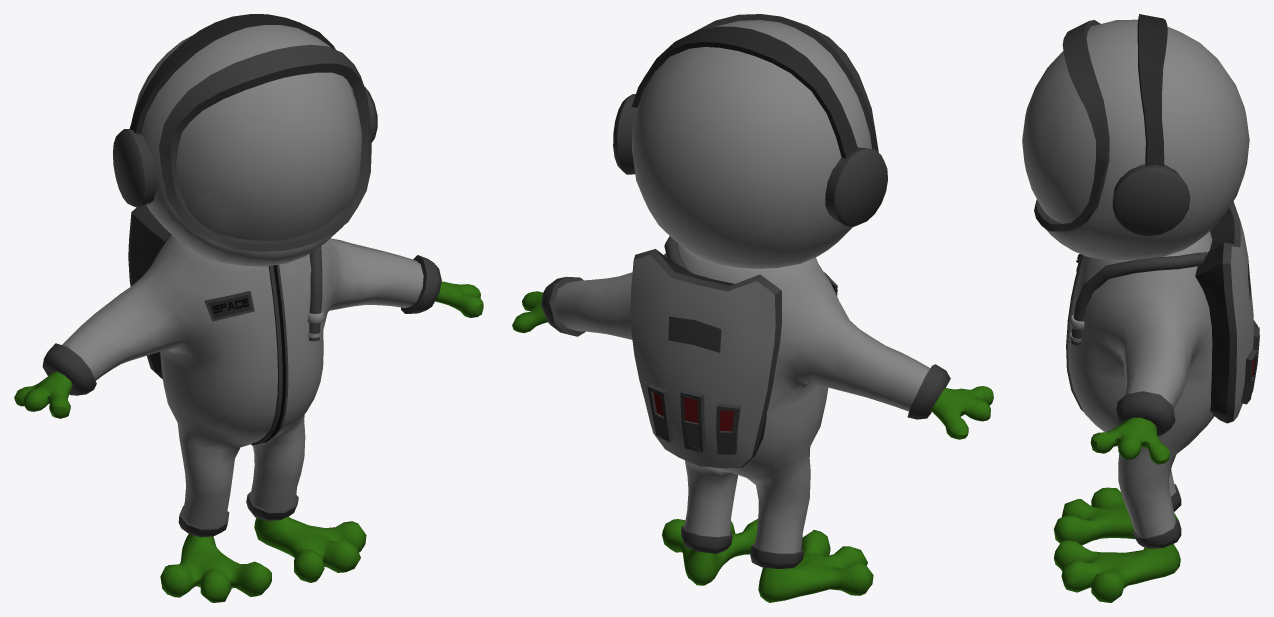
The model's file is FROG_00I.fbx.
3 renders of one model, left to right at view 1: azimuth 30°, elevation 25°; view 2: azimuth 150°, elevation 25°; view 3: azimuth 270°, elevation 25°, orthographic. The views are drawn at different scales.
Visible parts, largest first — view 1: FROG_00I; view 2: FROG_00I; view 3: FROG_00I.
Part boxes in pixels (x1,y1,x2,y2): FROG_00I: (14, 14, 483, 602); FROG_00I: (512, 14, 993, 602); FROG_00I: (1022, 14, 1259, 602).
Bounding box in the file's own units: 1.78 × 2.03 × 0.8191.
